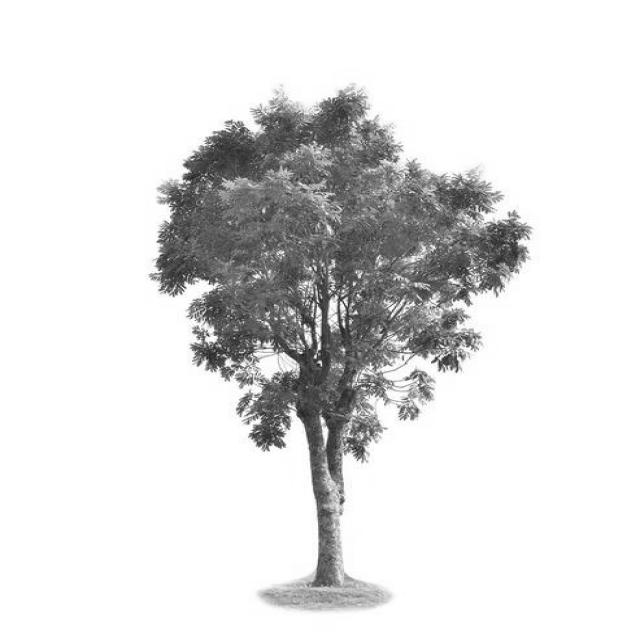Tree: (153, 88, 531, 587)
